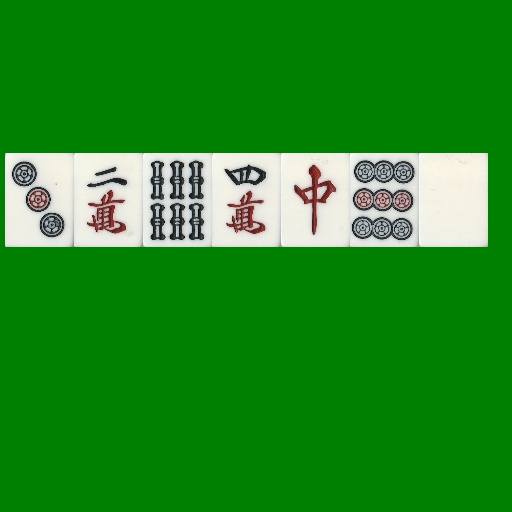2m: (74, 153, 143, 247)
3p: (5, 153, 74, 247)
4m: (212, 153, 281, 247)
6s: (143, 153, 212, 247)
9p: (350, 153, 419, 247)
tyun: (281, 153, 350, 247)
white: (419, 153, 488, 247)
